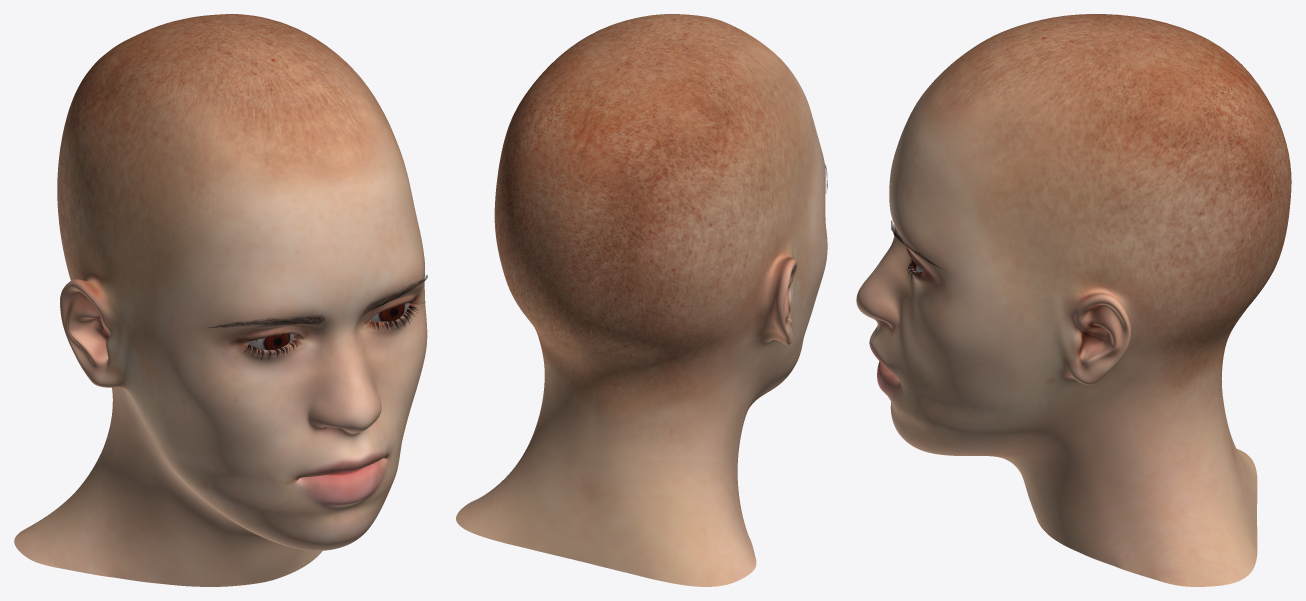
Rendered from head.glb.
3 views of the same model, side by side, from view 1: azimuth 30°, elevation 25°; view 2: azimuth 150°, elevation 25°; view 3: azimuth 270°, elevation 25° (orthographic). The views are drawn at different scales.
Parts seen in each view (by area): view 1: surface.head, surface.human.eyebrow001, surface.human.low-poly, surface.human.eyelashes01; view 2: surface.head; view 3: surface.head.
Part boxes in pixels (bbox=[...]): surface.head: bbox=[14, 14, 427, 586]; surface.human.eyebrow001: bbox=[208, 275, 427, 327]; surface.human.low-poly: bbox=[248, 303, 408, 349]; surface.human.eyelashes01: bbox=[243, 300, 423, 359]; surface.head: bbox=[456, 14, 827, 586]; surface.head: bbox=[856, 14, 1291, 586].
Bounding box in the file's own units: 0.1645 × 0.2538 × 0.2064.
Materials: 4 (4 with a texture image).
